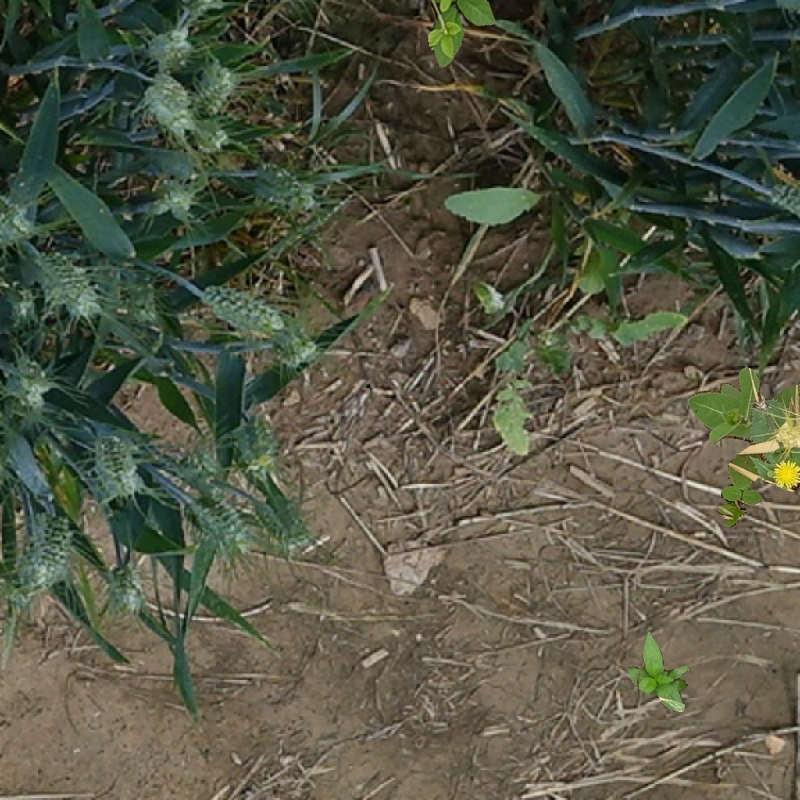spikelet: (199, 285, 285, 332), (135, 69, 200, 131), (32, 253, 93, 314), (27, 522, 72, 597), (101, 557, 147, 627), (143, 21, 200, 71), (89, 432, 137, 491), (254, 493, 304, 546), (184, 496, 239, 544), (249, 166, 311, 206), (1, 185, 39, 249), (233, 414, 278, 464), (3, 277, 41, 335), (196, 60, 240, 110), (7, 355, 50, 405), (149, 177, 200, 214), (174, 441, 213, 486), (186, 105, 227, 147), (125, 275, 157, 318), (759, 182, 798, 216), (276, 337, 314, 368)
weed: (476, 290, 682, 457), (651, 346, 800, 552), (446, 185, 644, 292), (614, 632, 688, 725), (414, 1, 505, 71)
